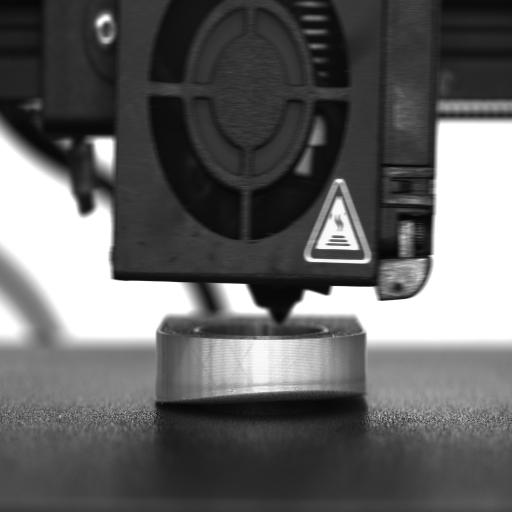warp: (157, 384, 362, 405)
